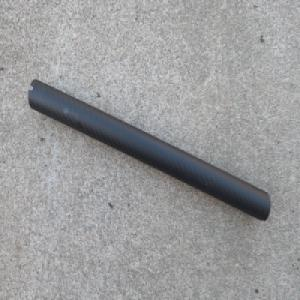LuggagePart: (27, 77, 270, 222)
